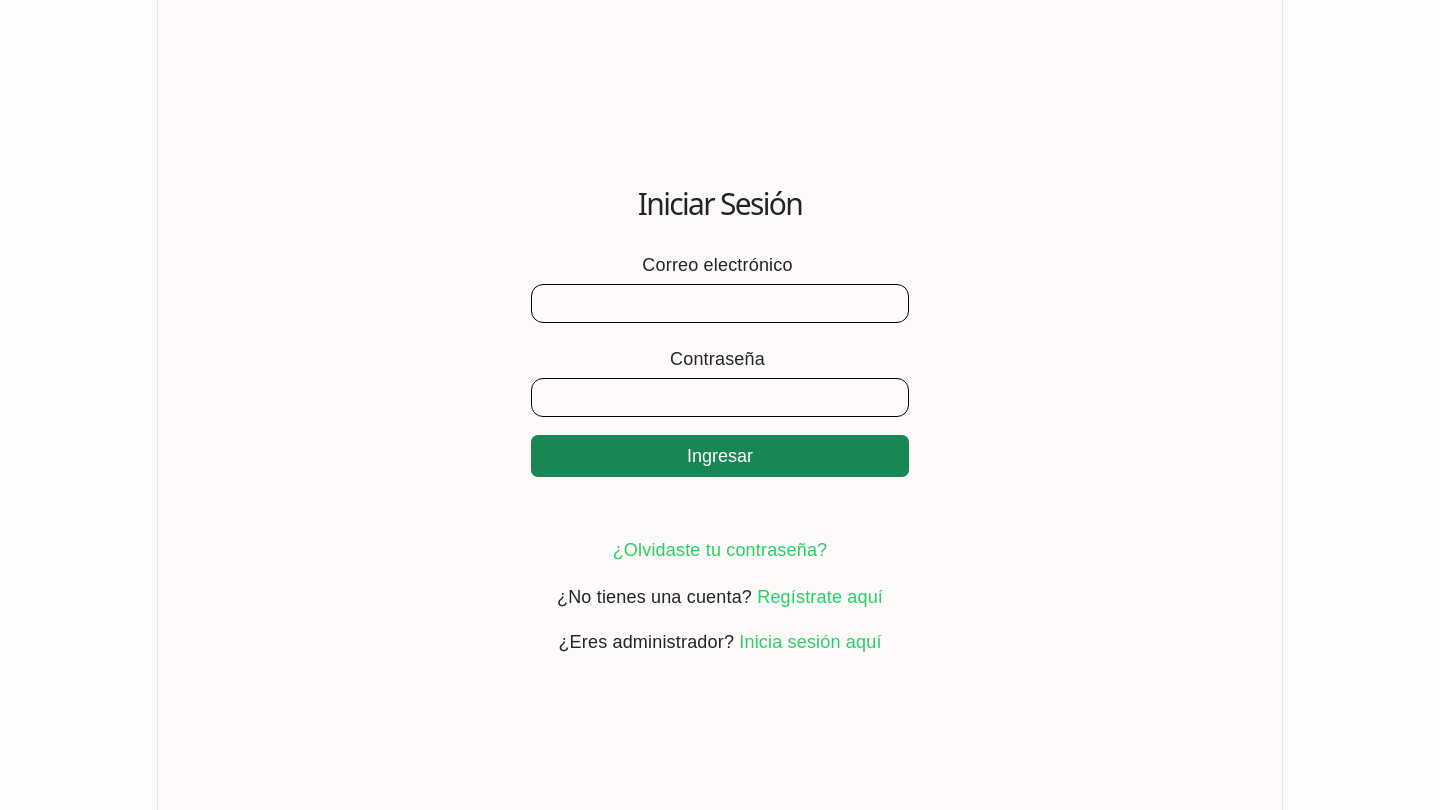
Test: Pruebas Unitarias - Módulo Login (Nutrivida) › 2. Muestra un error si el correo electrónico no es válido
The width and height of the screenshot is (1440, 810).
In the field labelled "Correo electrónico": (720, 303) [531,284,909,323], type "correoIncorrecto"
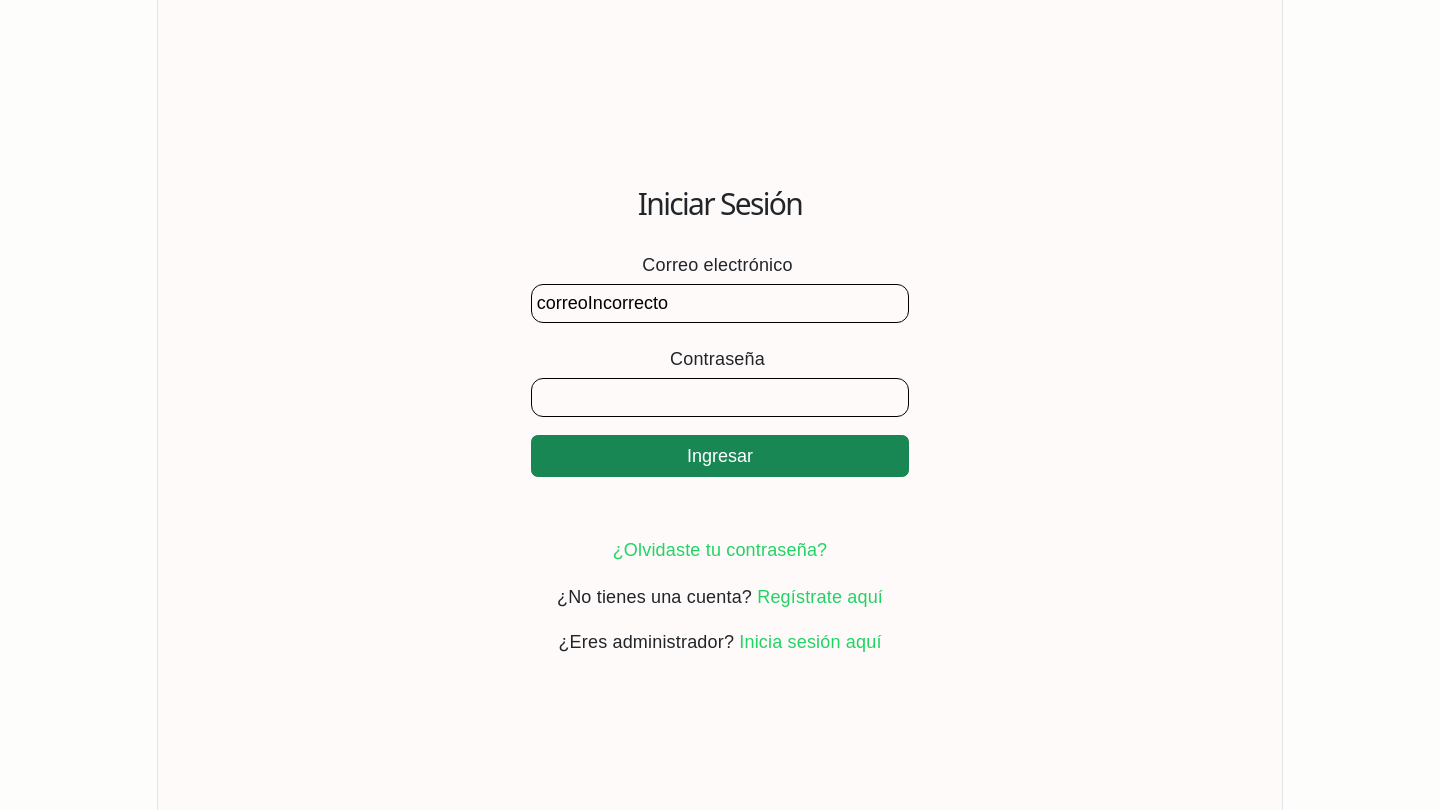
In the password field labelled "Contraseña": (720, 397) [531,378,909,417], type "Flores123."
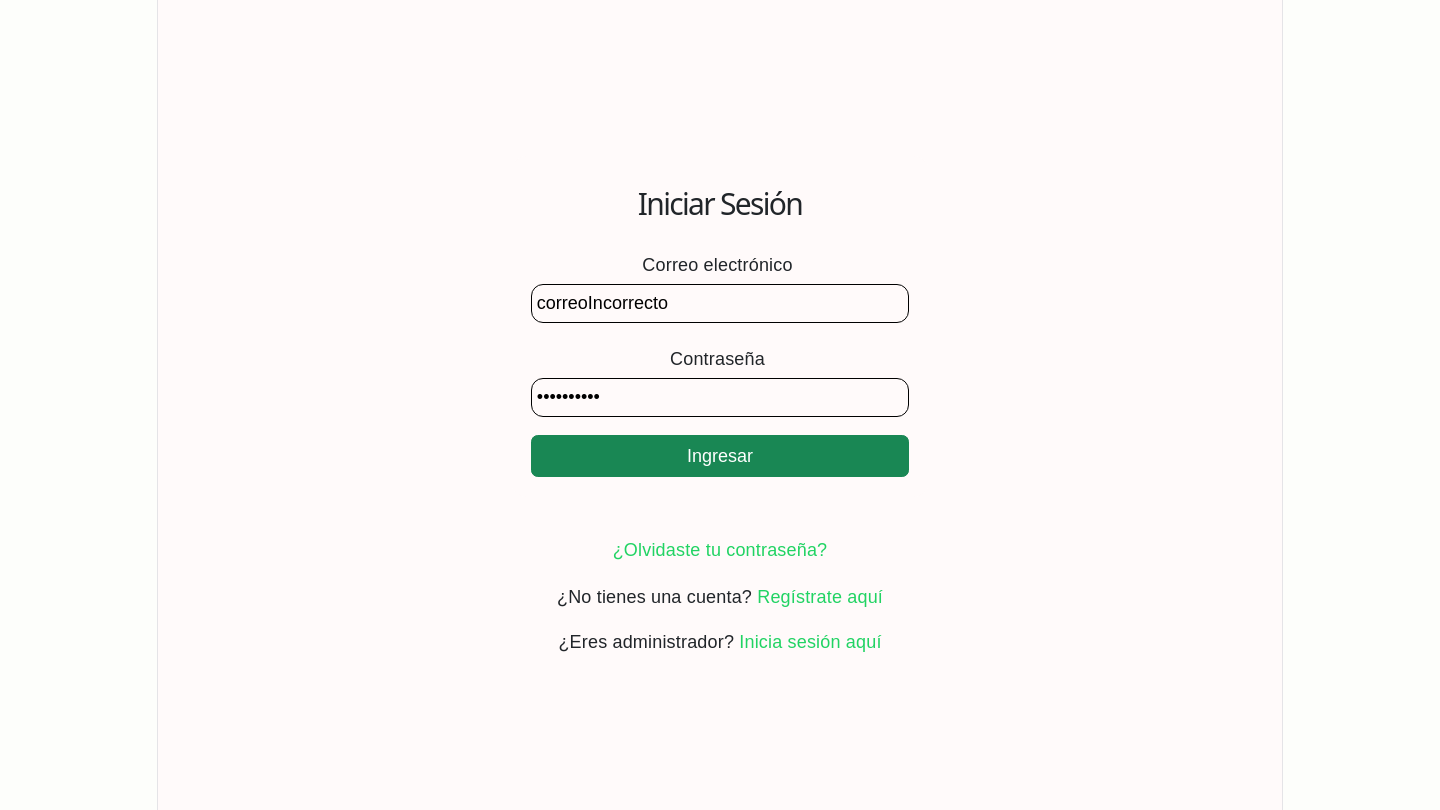
Submit the form "Iniciar Sesión Correo electrónico Contraseña Ingresar", box [511,156,929,497]
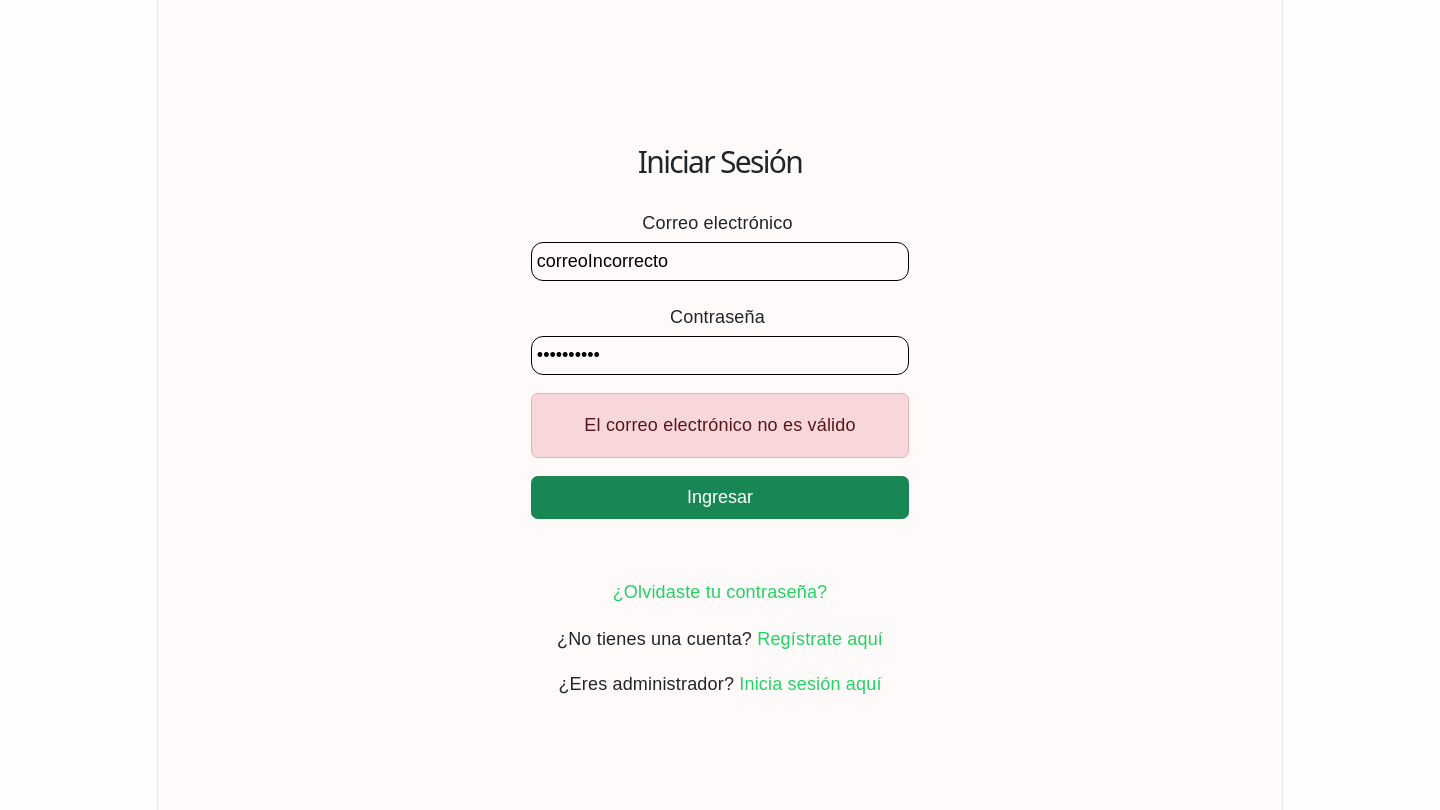
Expected: the text "El correo electrónico no es válido" is shown, [531,393,909,458]
